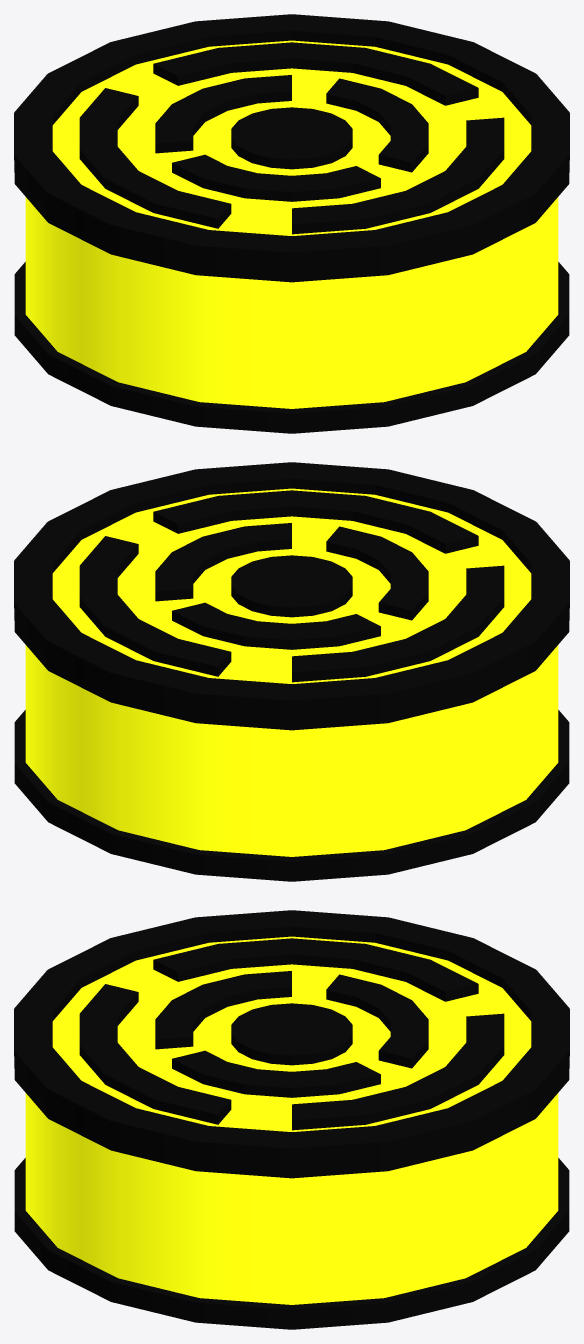
3 views of the same model, one above another, from view 1: azimuth 30°, elevation 25°; view 2: azimuth 150°, elevation 25°; view 3: azimuth 270°, elevation 25° (orthographic).
Parts seen in each view (by area): view 1: Circle; view 2: Circle; view 3: Circle.
Part boxes in pixels (left/top/right/bottom): Circle: left=14, top=14, right=569, bottom=433; Circle: left=14, top=462, right=569, bottom=881; Circle: left=14, top=910, right=569, bottom=1329.
Bounding box in the file's own units: 1.04 × 0.37 × 1.03.
